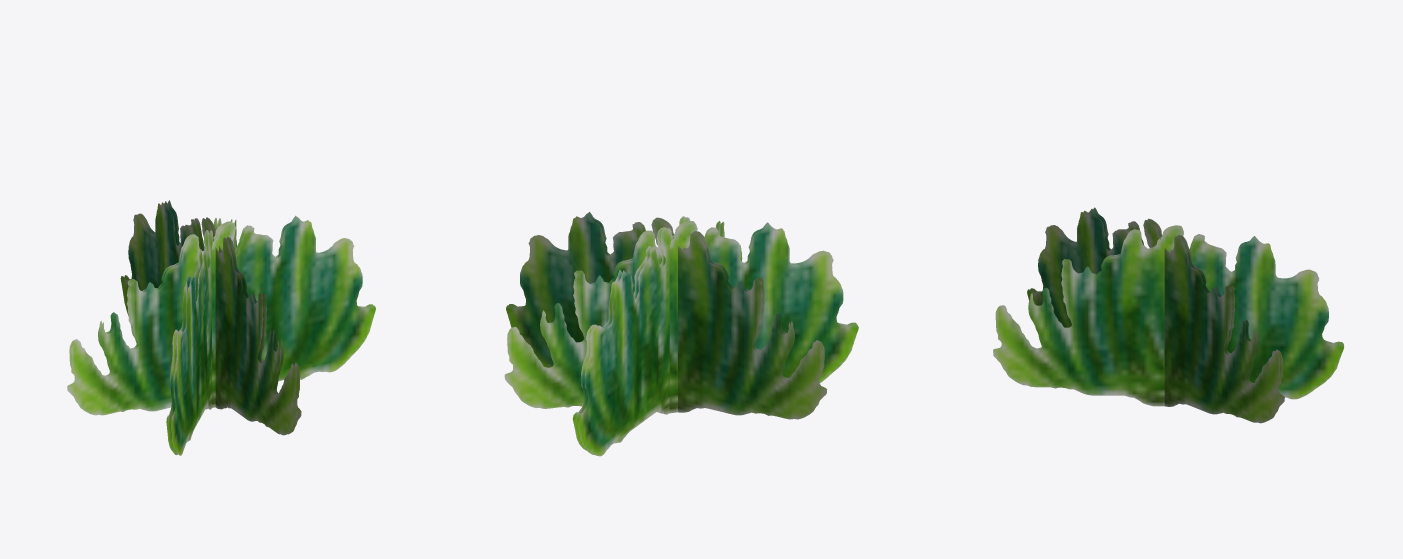
Rendered from Grass9.fbx.
3 views of the same model, side by side, from view 1: azimuth 30°, elevation 25°; view 2: azimuth 150°, elevation 25°; view 3: azimuth 270°, elevation 25° (orthographic). The views are drawn at different scales.
Parts seen in each view (by area): view 1: Grass9; view 2: Grass9; view 3: Grass9.
Boxes of the visible parts, bbox=[...] form: Grass9: bbox=[67, 200, 375, 455]; Grass9: bbox=[504, 212, 858, 456]; Grass9: bbox=[993, 207, 1344, 423].
Size of the model in its own units: 447 by 365 by 447.
Materials: 1 (1 with a texture image).
